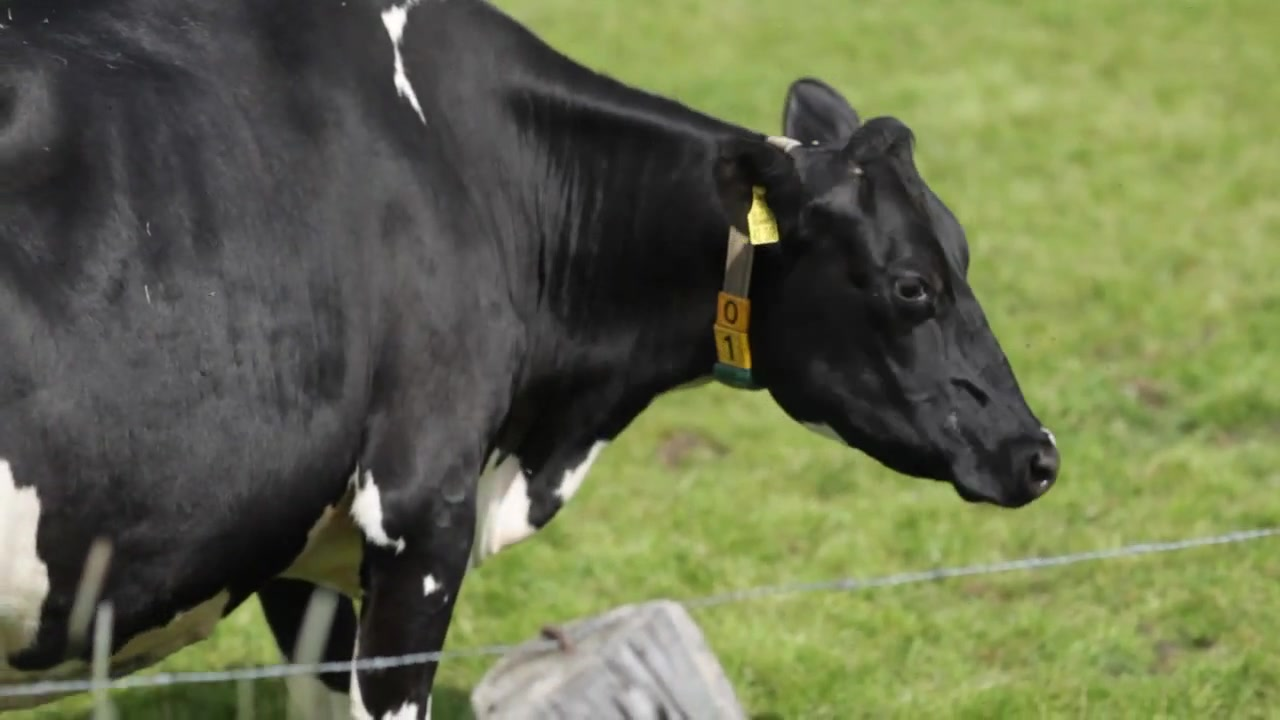cow: (2, 3, 1066, 720)
